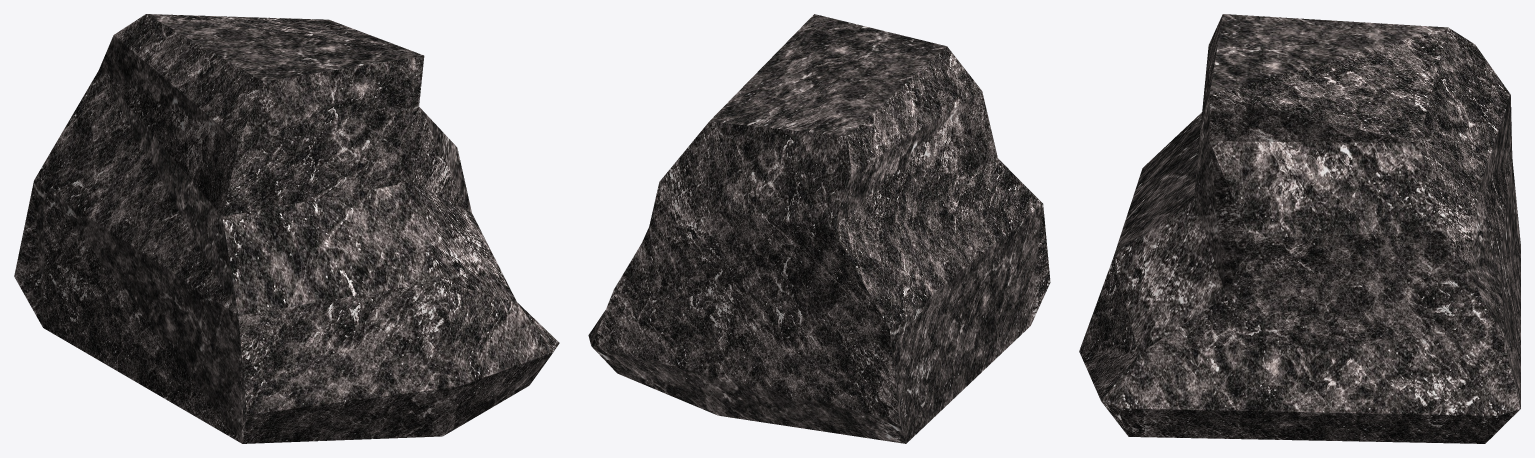
Rendered from rocha_b.glb.
The picture shows the model from 3 angles, left to right: view 1: azimuth 30°, elevation 25°; view 2: azimuth 150°, elevation 25°; view 3: azimuth 270°, elevation 25°; orthographic projection. The views are drawn at different scales.
Parts seen in each view (by area): view 1: Rock_3_Cube.017; view 2: Rock_3_Cube.017; view 3: Rock_3_Cube.017.
Boxes of the visible parts, x1=… form: Rock_3_Cube.017: x1=14, y1=14, x2=559, y2=443; Rock_3_Cube.017: x1=588, y1=14, x2=1050, y2=443; Rock_3_Cube.017: x1=1079, y1=14, x2=1520, y2=443.
Bounding box in the file's own units: 0.7384 × 0.676 × 0.8026.
Materials: 1 (1 with a texture image).
